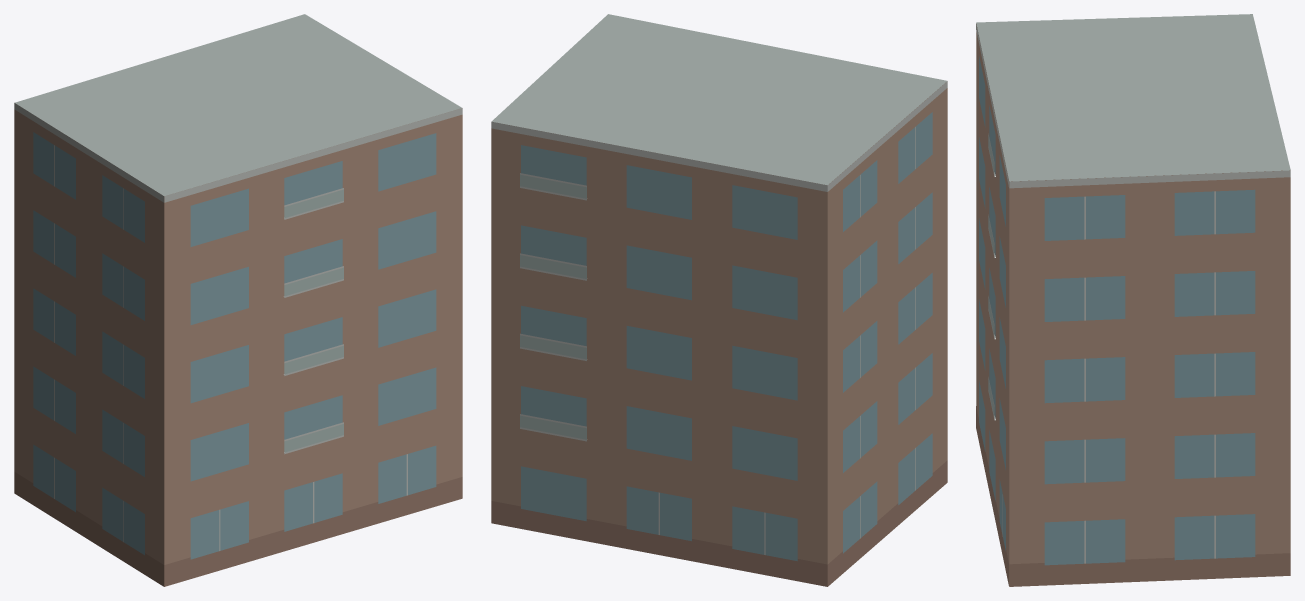
Rendered from survey-upis-33030033.glb.
The picture shows the model from 3 angles, left to right: view 1: azimuth 30°, elevation 25°; view 2: azimuth 150°, elevation 25°; view 3: azimuth 270°, elevation 25°; orthographic projection. The views are drawn at different scales.
Visible parts, largest first — view 1: survey-upis-33030033.tmp; view 2: survey-upis-33030033.tmp; view 3: survey-upis-33030033.tmp.
Boxes of the visible parts, left/top/right/bottom form: survey-upis-33030033.tmp: left=14, top=14, right=462, bottom=586; survey-upis-33030033.tmp: left=491, top=14, right=947, bottom=586; survey-upis-33030033.tmp: left=976, top=14, right=1290, bottom=586.
Bounding box in the file's own units: 12.86 × 14.5 × 10.21.
